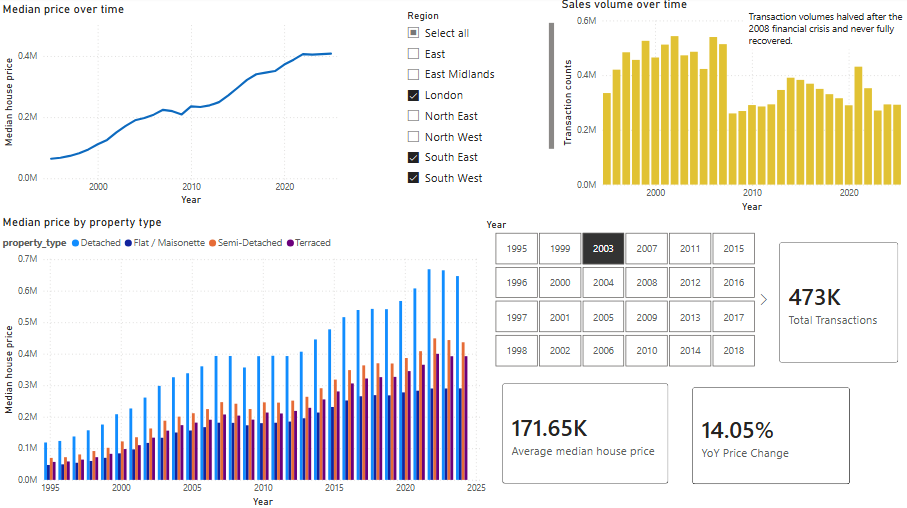

This screenshot's page, from the dashboard's own definition file:
{"tool":"powerbi","page":{"name":"Regional Deep-Dive","canvas":[1280,720],"ordinal":1},"visuals":[{"type":"lineChart","title":"Median price over time","fields":{"Category":["public v_median_price.year"],"Y":["Avg(public v_median_price.median_price)"]},"box":[0,7,482.9,290],"z":0},{"type":"clusteredColumnChart","title":"Sales volume over time","fields":{"Category":["public v_volume.year"],"Y":["Sum(public v_volume.transaction_count)"]},"box":[782.9,0,494.3,305.7],"z":1000},{"type":"cardVisual","title":"Average median house price","fields":{"Data":["Avg(public v_median_price.median_price)"]},"box":[687.1,524.3,267.1,175.7],"z":2000},{"type":"cardVisual","title":"Total sales","fields":{"Data":["public v_volume.Total Transactions"]},"box":[1075.5,326.3,201.7,203.1],"z":3000},{"type":"slicer","fields":{"Values":["dim_region_pbi.region_name"]},"box":[558.6,12.9,224.3,265.7],"z":4000},{"type":"clusteredColumnChart","title":"Median price by property type","fields":{"Category":["dim_year_pbi.year"],"Y":["Avg(public v_price_by_type.median_price)"],"Series":["public v_price_by_type.property_type"]},"box":[0,305.7,687.1,414.3],"z":5000},{"type":"cardVisual","fields":{"Data":["public v_median_price.YoY Price Change %"]},"box":[954.3,530,255.7,170],"z":6000},{"type":"textbox","box":[1044.3,12.9,235.7,61.4],"z":7000},{"type":"slicer","fields":{"Values":["dim_year_pbi.year"]},"box":[670,305.7,412.9,218.6],"z":8000}]}

Visuals, with their boxes in screenshot pixels (x1, y1, x2, y2), scaled from the page's 1280x720 canvas onto the 907x508 screenshot:
"Median price over time" lineChart: bbox(0, 5, 342, 210)
"Sales volume over time" clusteredColumnChart: bbox(555, 0, 905, 216)
"Average median house price" cardVisual: bbox(487, 370, 676, 494)
"Total sales" cardVisual: bbox(762, 230, 905, 374)
slicer - dim_region_pbi.region_name: bbox(396, 9, 555, 197)
"Median price by property type" clusteredColumnChart: bbox(0, 216, 487, 507)
cardVisual - public v_median_price.YoY Price Change %: bbox(676, 374, 857, 494)
textbox: bbox(740, 9, 906, 52)
slicer - dim_year_pbi.year: bbox(475, 216, 767, 370)
